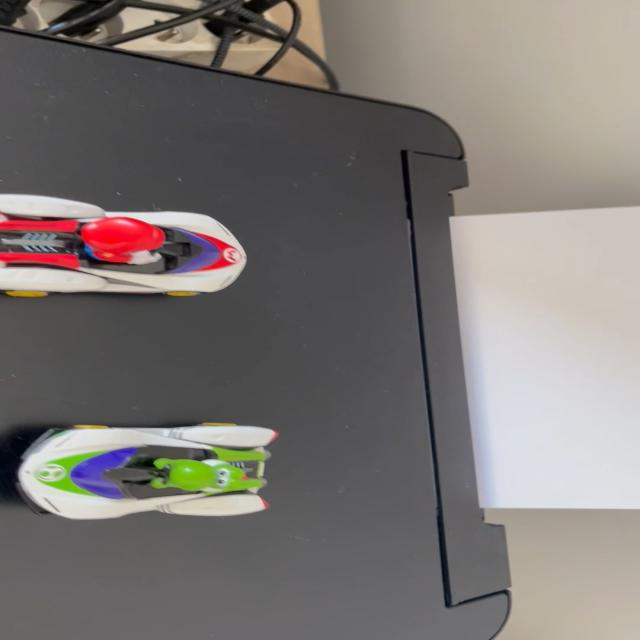mario: (4, 192, 272, 310)
yoshi: (1, 406, 298, 530)
